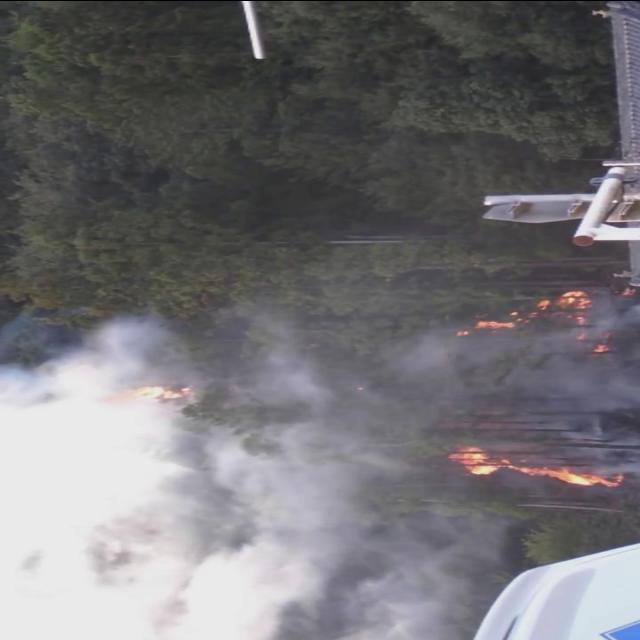Fire: (451, 446, 621, 492), (458, 288, 592, 336), (133, 380, 185, 400), (592, 342, 612, 354)
